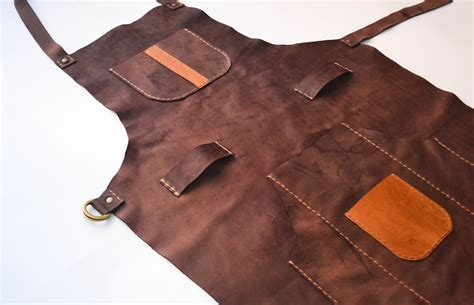cuero: (18, 3, 474, 305)
